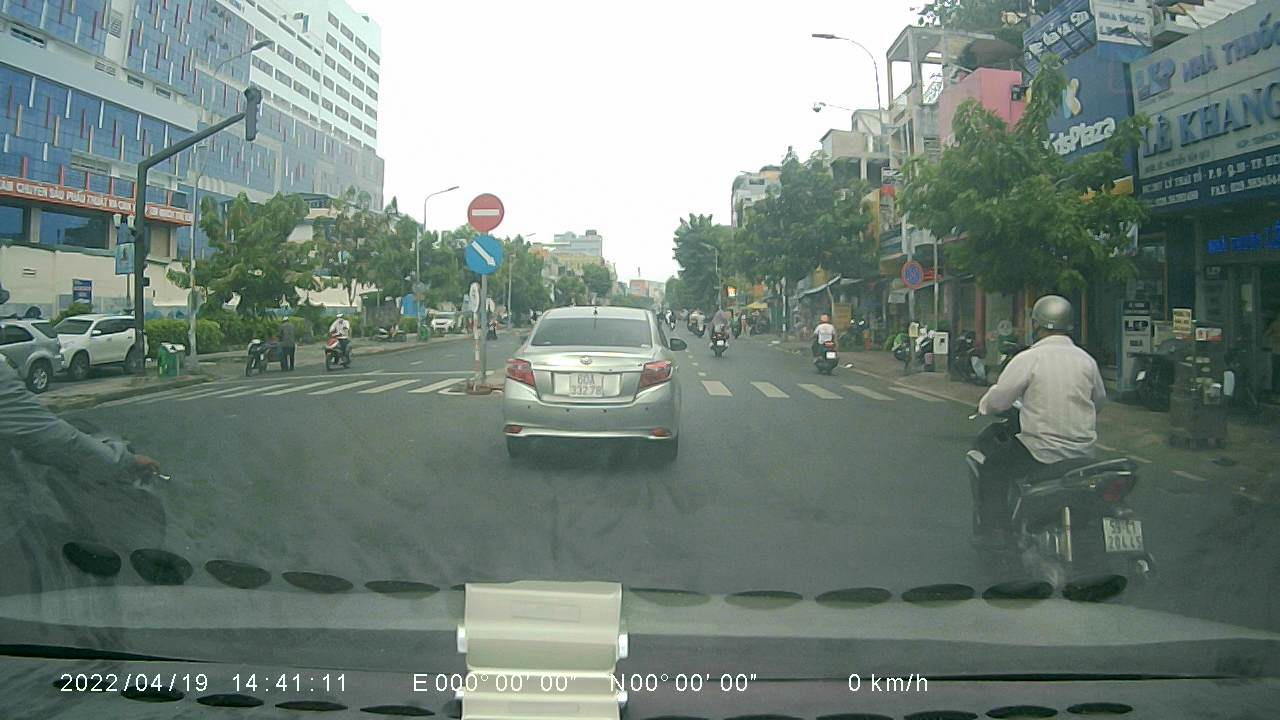Cam di nguoc chieu: (464, 192, 504, 232)
Huong di phai re phai: (462, 235, 503, 275)
